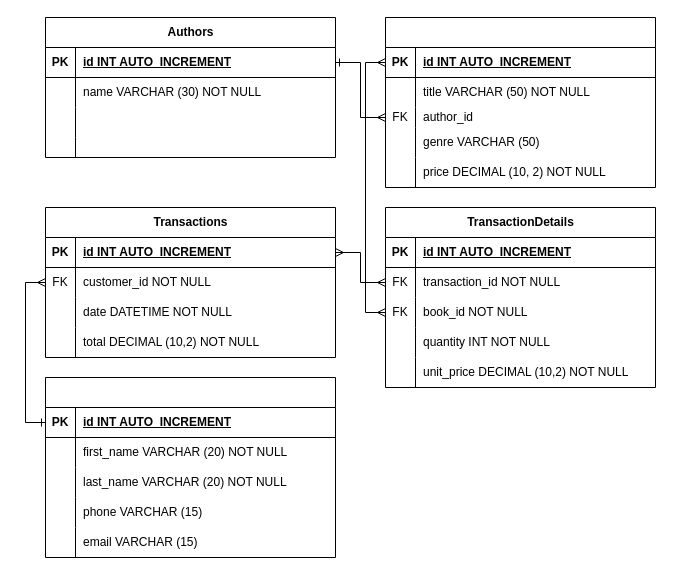
Image size: 673x575. Some labels were removed from this diagram. Each missing label, with the box of its shape:
Books: (384, 16, 656, 188)
Customers: (44, 376, 336, 558)
